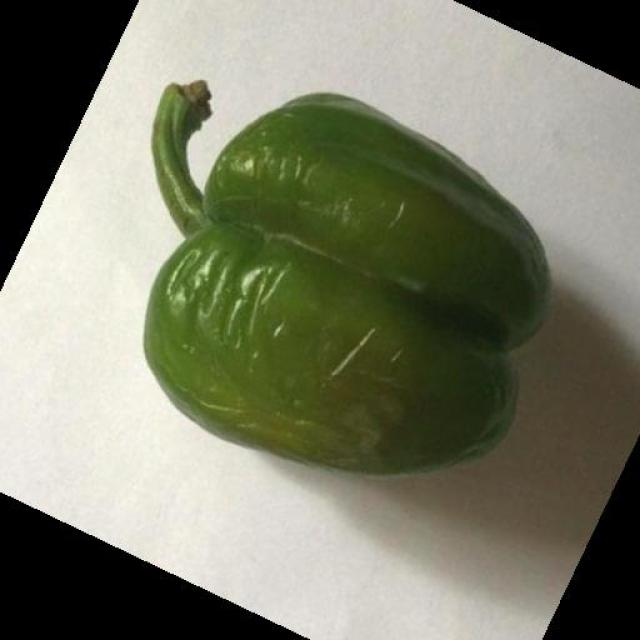Stale_Capsicum: (164, 80, 518, 439)
